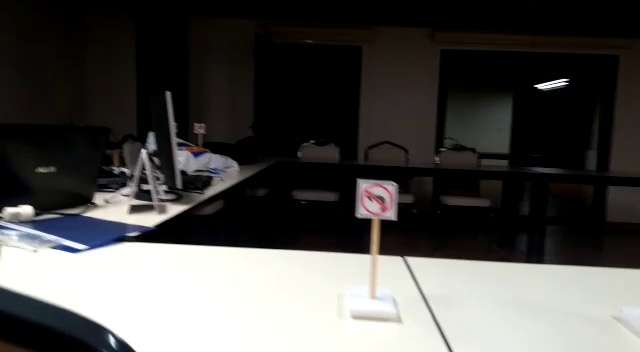sola_donulmez: (357, 177, 397, 221)
